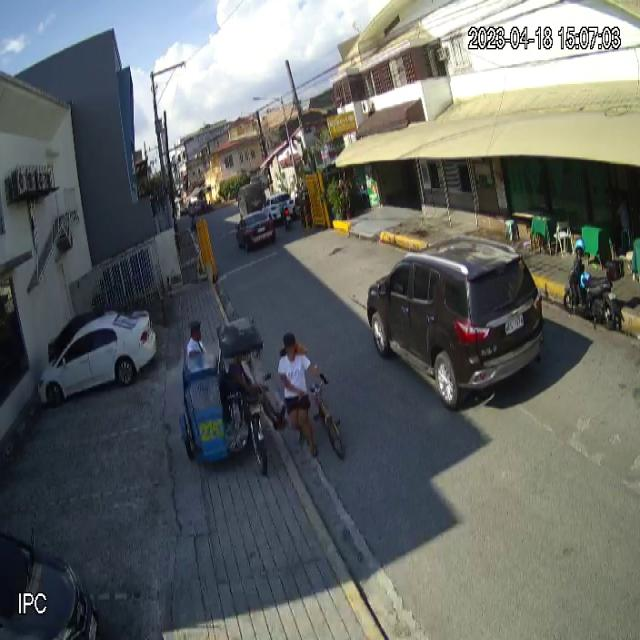Car: (368, 237, 544, 412), (38, 311, 158, 407)
Motorcycle: (563, 251, 625, 331)
Tricycle: (180, 315, 268, 475)
